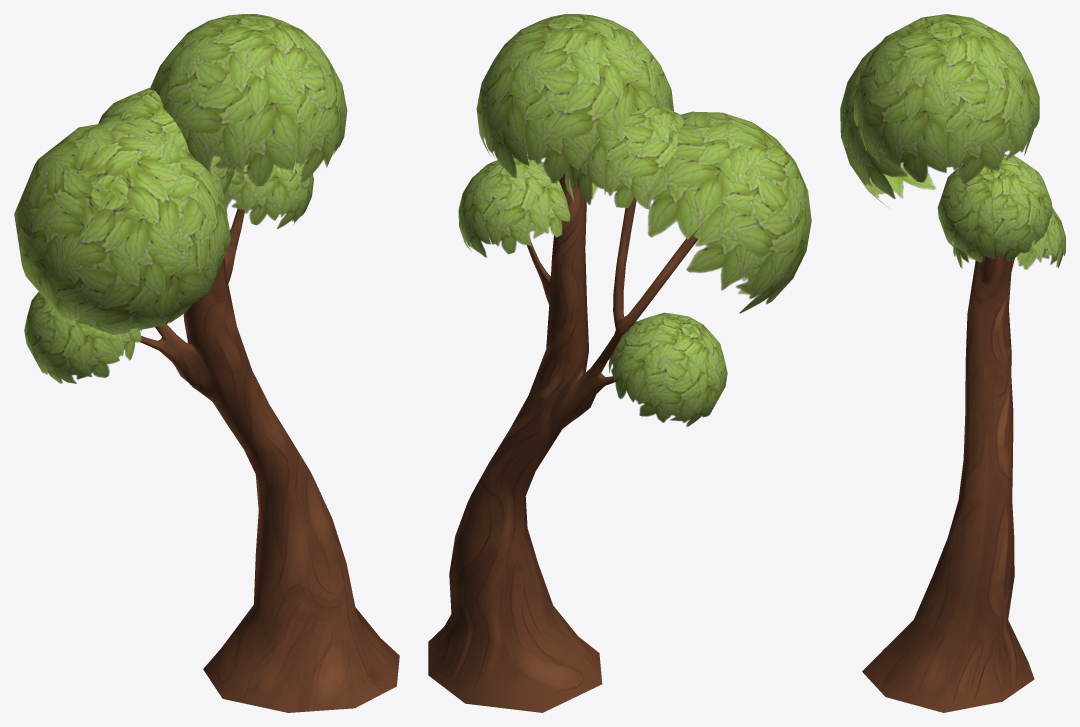
3 renders of one model, left to right at view 1: azimuth 30°, elevation 25°; view 2: azimuth 150°, elevation 25°; view 3: azimuth 270°, elevation 25°, orthographic. The views are drawn at different scales.
Parts seen in each view (by area): view 1: Object_2; view 2: Object_2; view 3: Object_2.
Boxes of the visible parts, x1,y1,x2,y2 form: Object_2: [14, 14, 399, 712]; Object_2: [428, 14, 811, 712]; Object_2: [840, 14, 1065, 712].
Size of the model in its own units: 0.5799 by 1 by 0.3265.
1 material, 1 textured.
